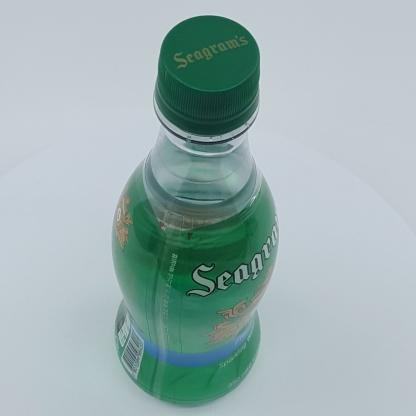--------350ML: (111, 15, 279, 405)
